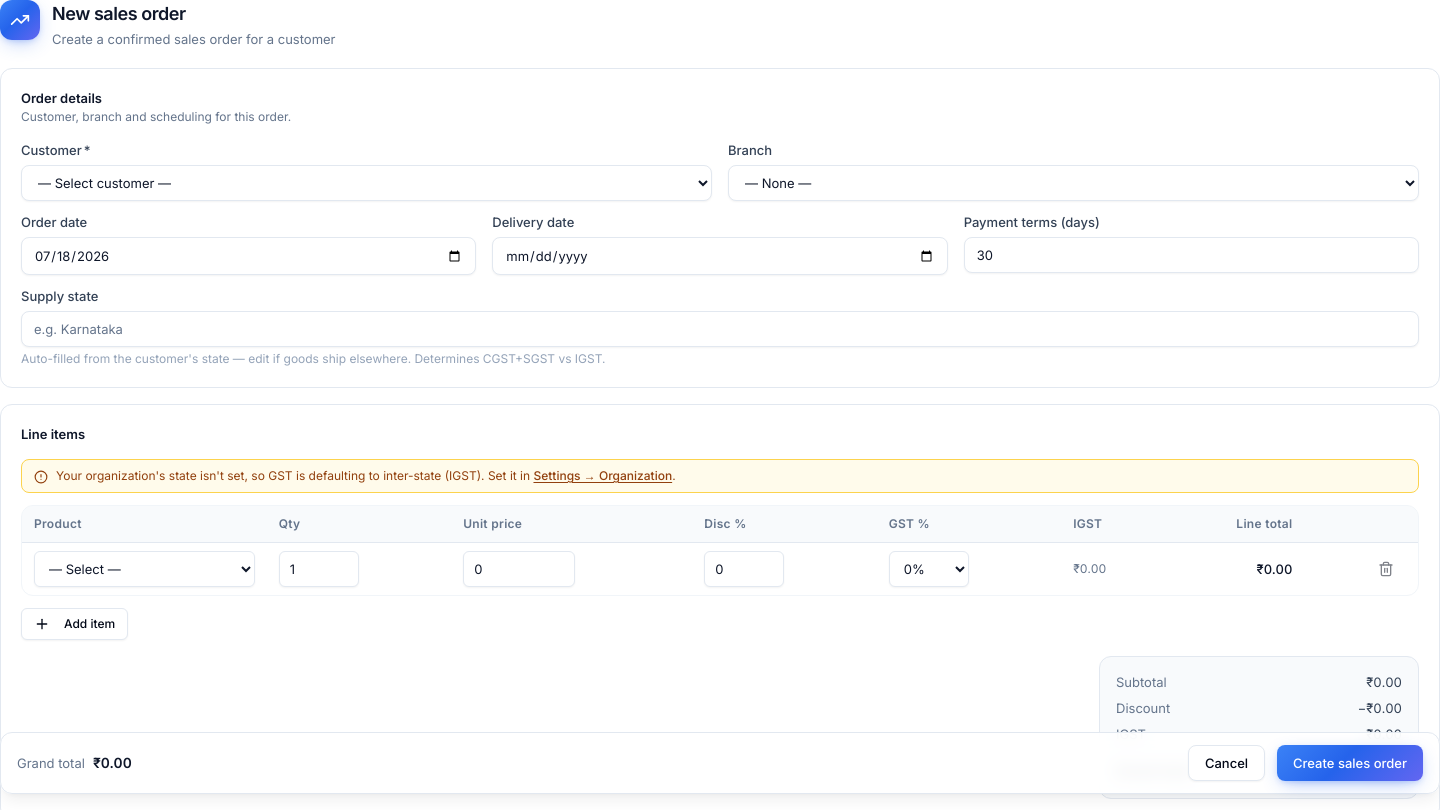
Test: SalesOrderForm › blocks submission when no customer is selected
This screenshot has width=1440, height=810.
Step 1. Select "Widget" in the dropdown named "Product for line 1" → (144, 568), box x1=34 y1=550 x2=255 y2=586
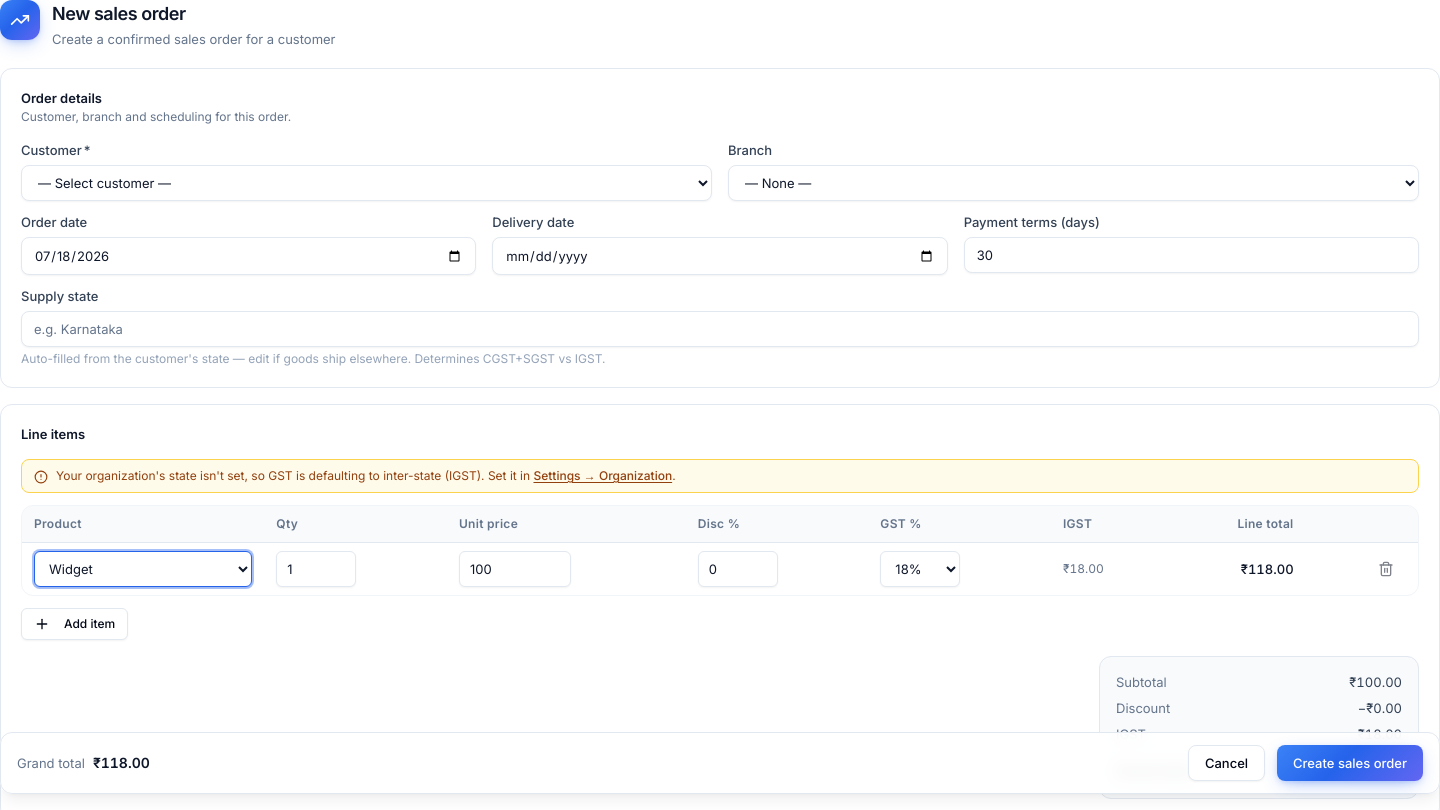
Step 2. Click the button "Create sales order" → (1350, 763), box x1=1277 y1=745 x2=1423 y2=781
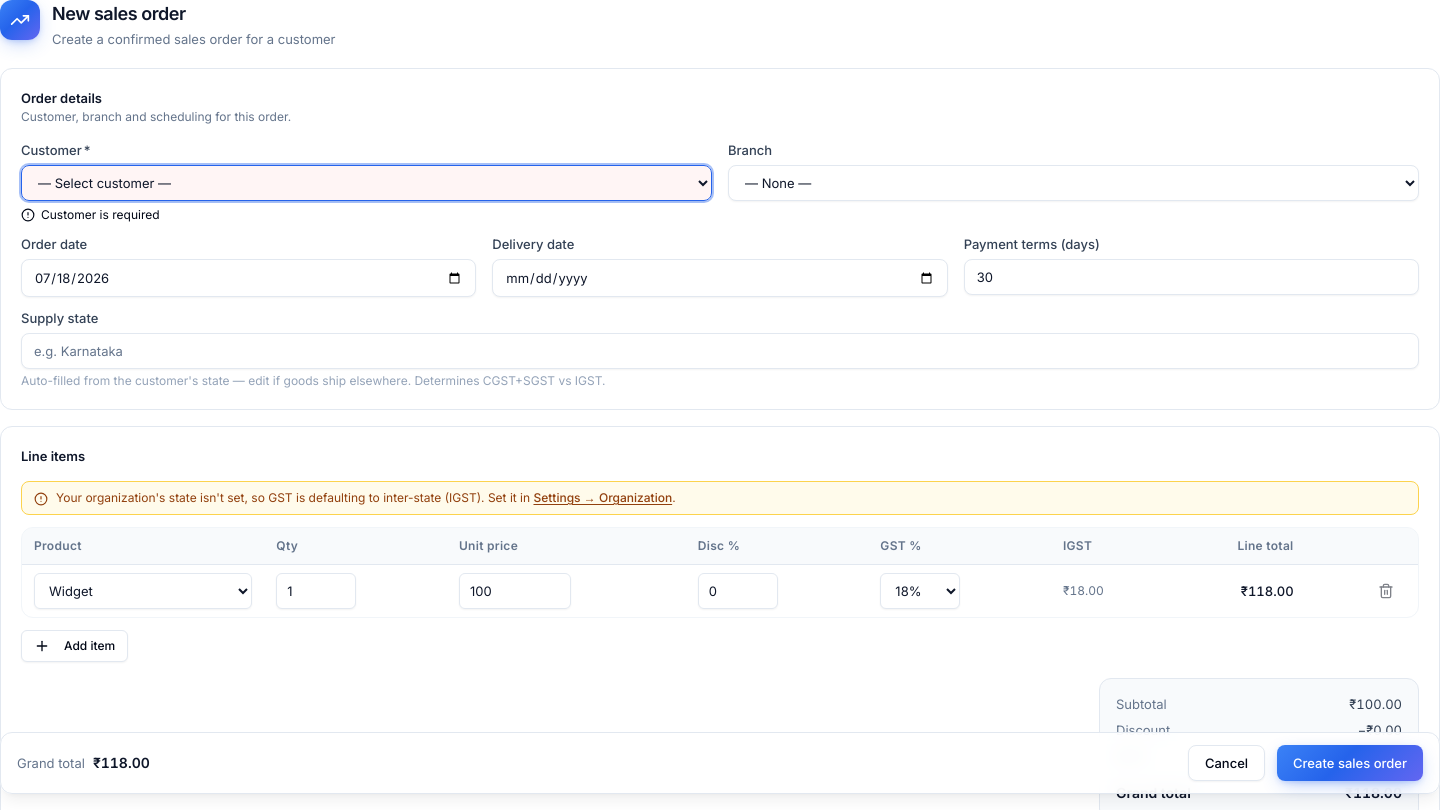
Result: the text "Customer is required" is shown at x1=21 y1=207 x2=160 y2=222
